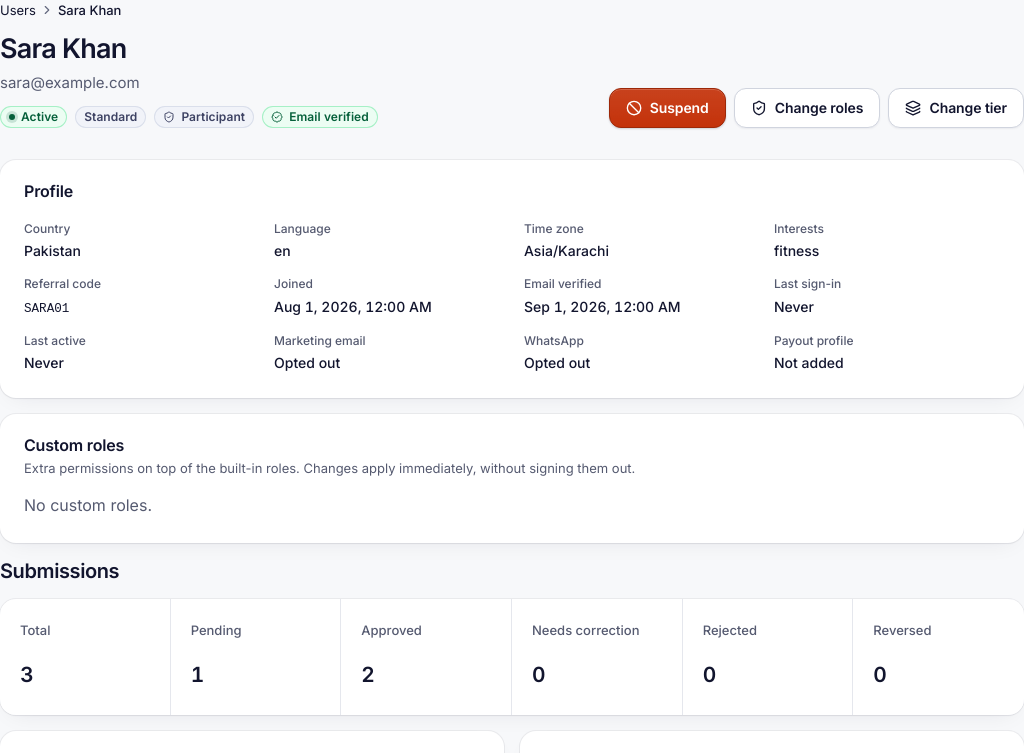
User detail — suspend › requires a reason and the typed email before suspending, and explains session revocation
Step 1. Click the button "Suspend" → point(667, 108), box [609, 88, 726, 128]
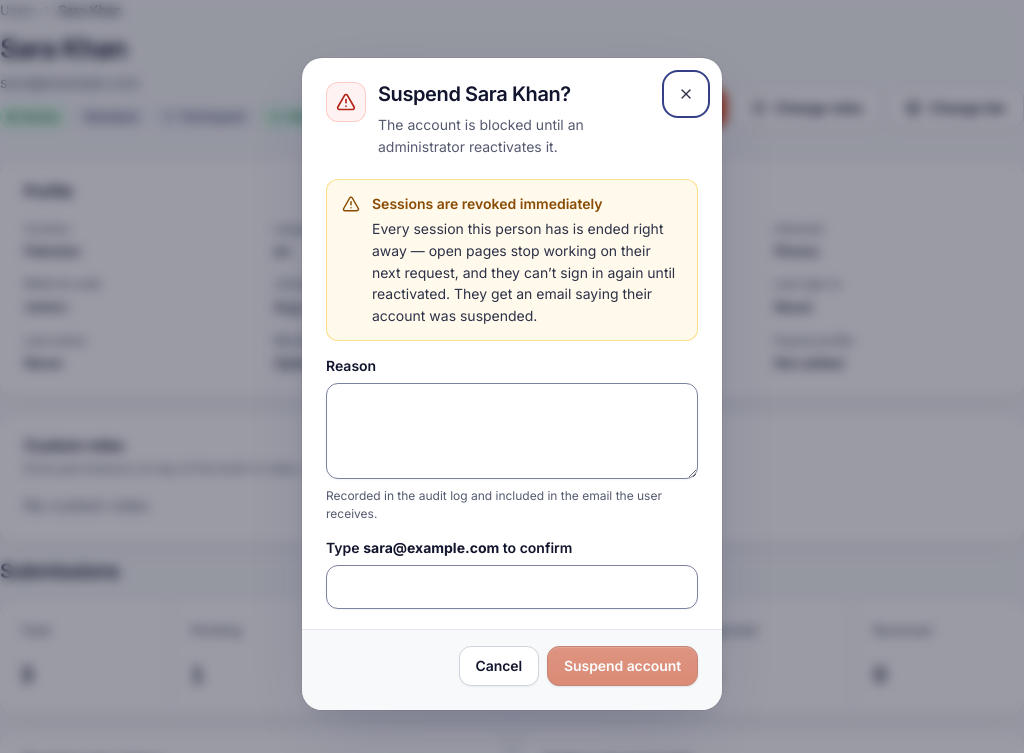
Now the text "Sessions are revoked immediately" is shown, box [372, 195, 602, 212]
Now the button "Suspend account" is disabled, box [547, 646, 698, 686]
Step 2. Type "sara@example.com" into the field labelled "Type sara@example.com to confirm" → point(512, 587), box [326, 565, 698, 609]
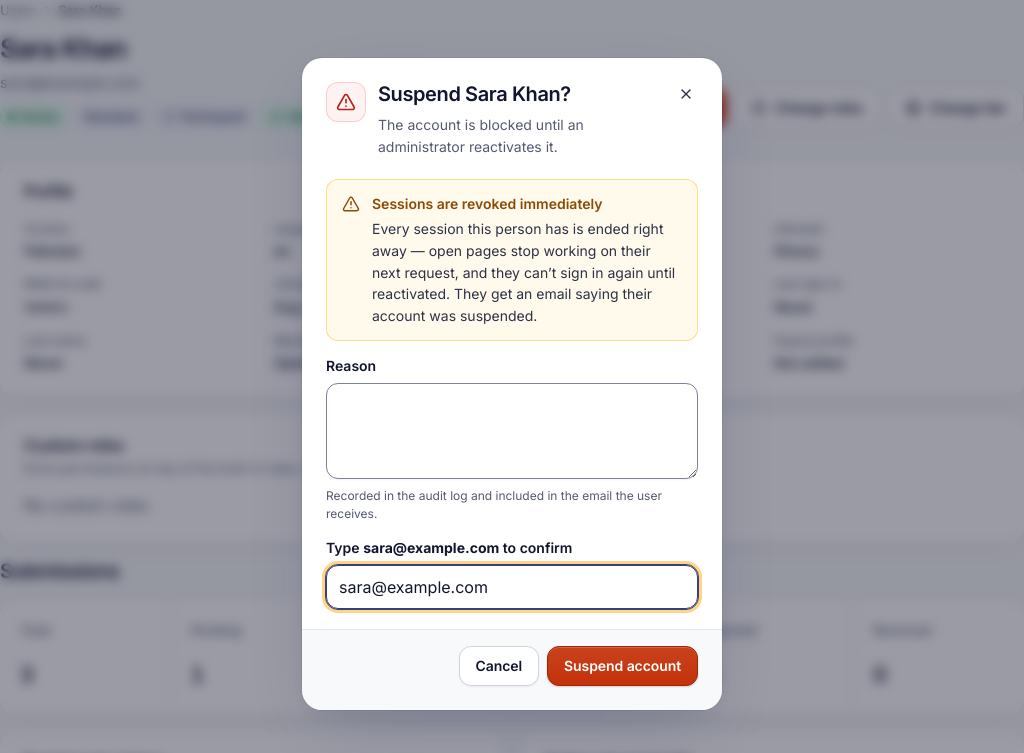
Step 3. Click the button "Suspend account" → point(623, 666), box [547, 646, 698, 686]
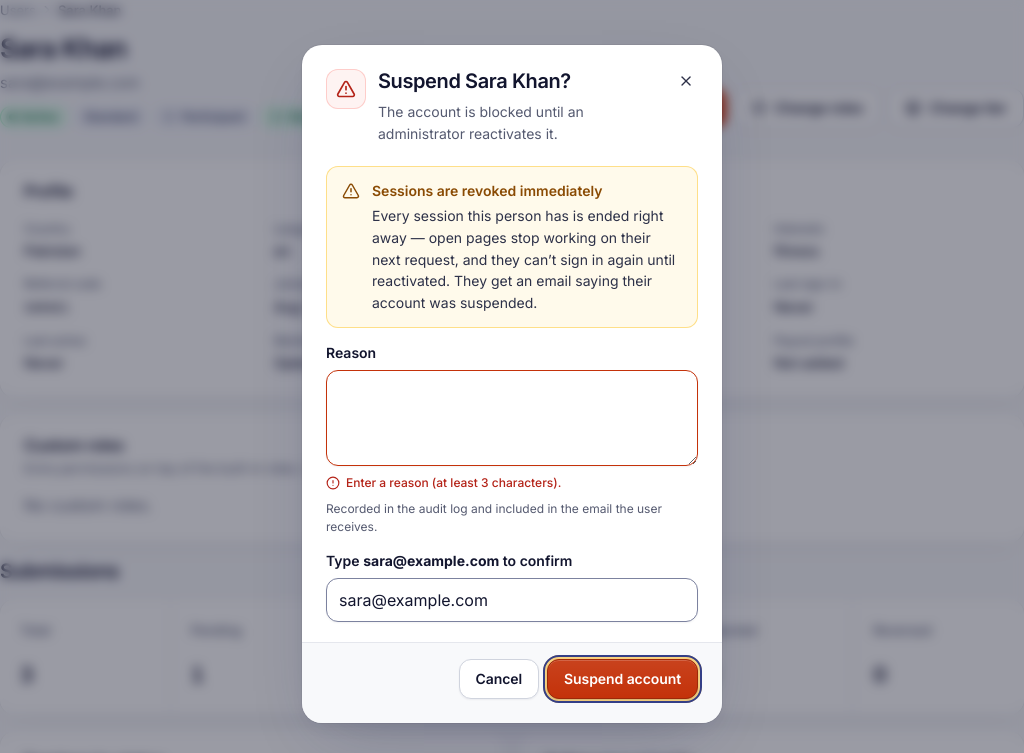
Now the text "Enter a reason (at least 3 characters)." is shown, box [346, 474, 561, 492]
Step 4. Type "Confirmed fraud ring" into the text box labelled "Reason" → point(512, 418), box [326, 370, 698, 466]
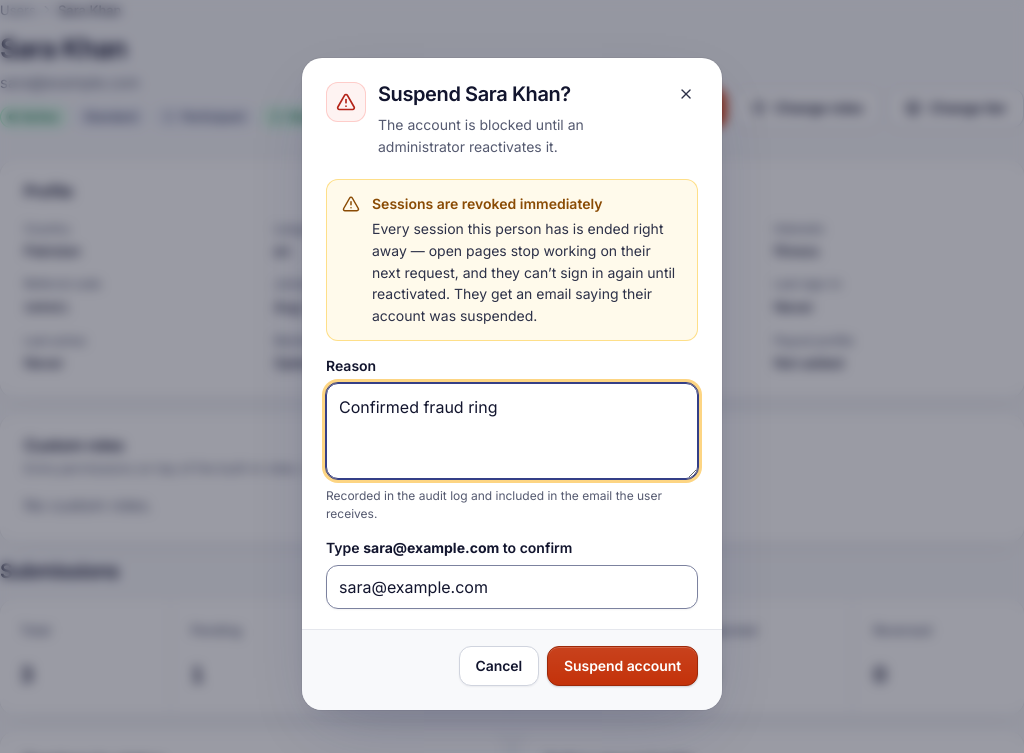
Step 5. Click the button "Suspend account" → point(623, 666), box [547, 646, 698, 686]
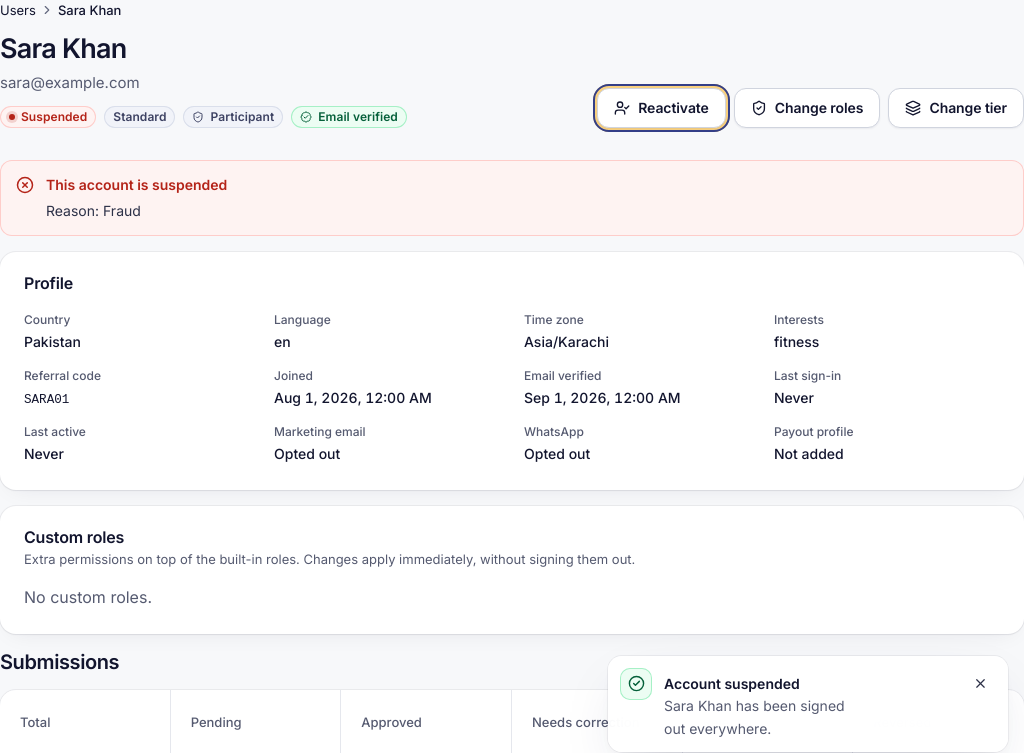
Now the text "This account is suspended" is shown, box [46, 176, 227, 193]
Now the button "Reactivate" is shown, box [597, 88, 726, 128]
